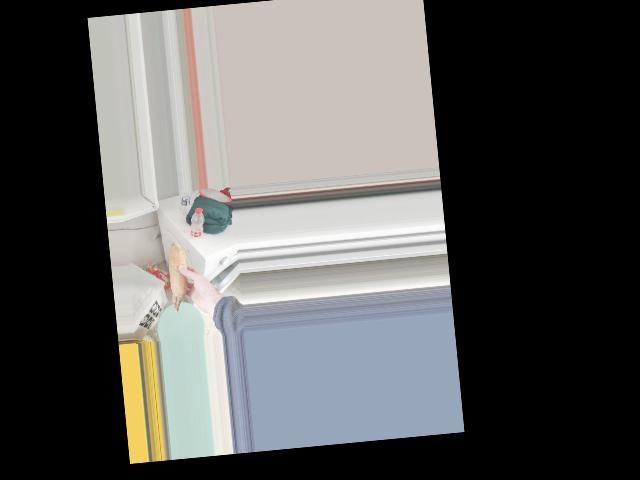sweet_potato: (165, 245, 195, 313)
